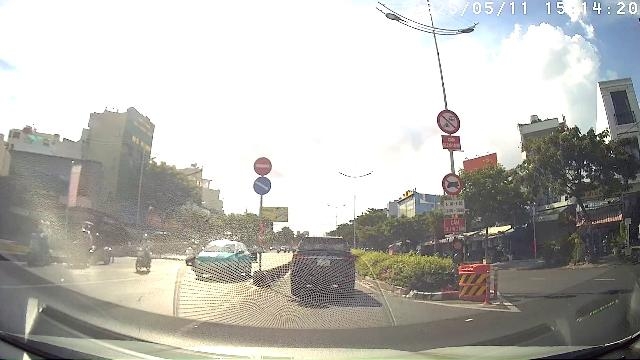302a-huong-phai-di-vong-chuong-ngai-vat-1: (254, 156, 272, 176), (253, 176, 270, 196)
